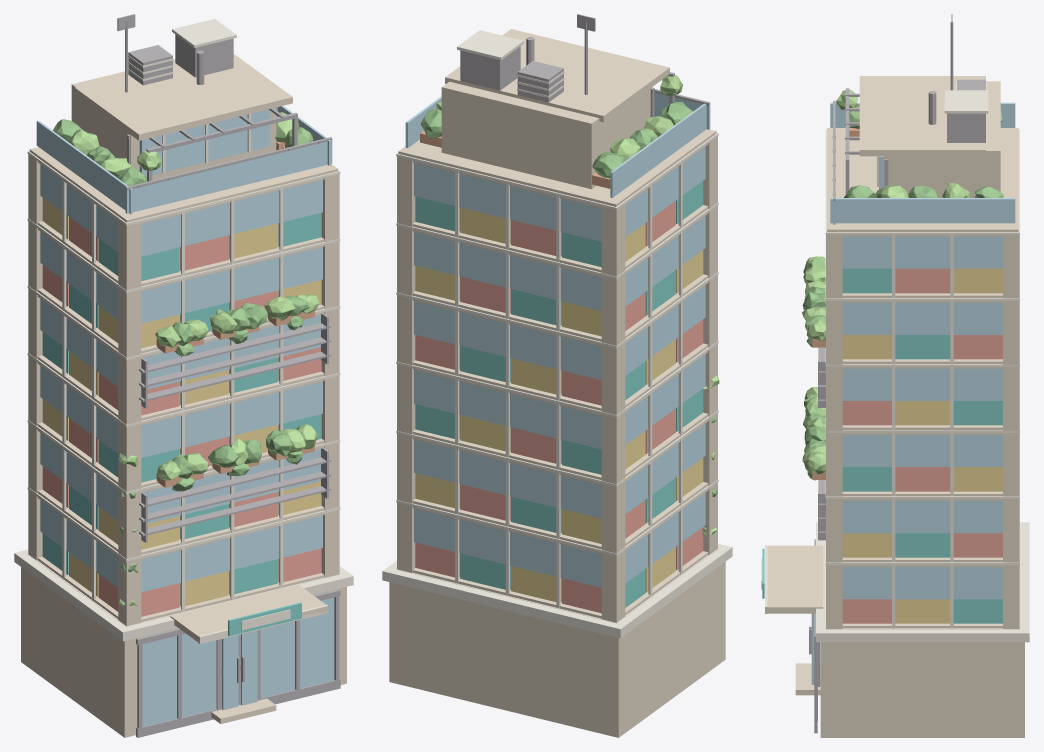
The model's file is Modern_E.fbx.
3 views of the same model, side by side, from view 1: azimuth 30°, elevation 25°; view 2: azimuth 150°, elevation 25°; view 3: azimuth 270°, elevation 25° (orthographic). The views are drawn at different scales.
Parts seen in each view (by area): view 1: Modern_E, Modern_E_Veg; view 2: Modern_E, Modern_E_Veg; view 3: Modern_E, Modern_E_Veg.
Part boxes in pixels (left/top/right/bottom): Modern_E: left=14, top=14, right=353, bottom=737; Modern_E_Veg: left=53, top=111, right=319, bottom=605; Modern_E: left=382, top=14, right=732, bottom=737; Modern_E_Veg: left=420, top=75, right=719, bottom=535; Modern_E: left=761, top=14, right=1029, bottom=737; Modern_E_Veg: left=802, top=89, right=1003, bottom=480.
Size of the model in its own units: 5.4 by 14.66 by 5.52.
